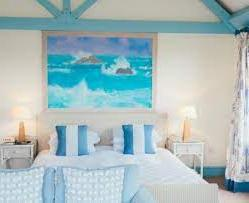bed: (0, 112, 225, 203)
light: (8, 102, 31, 145), (183, 103, 201, 141)
table: (170, 138, 205, 176), (0, 144, 33, 170)
